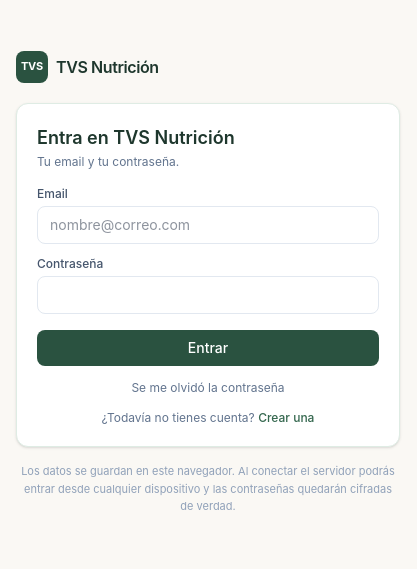
Test case: Pantalla de acceso › una contraseña corta se explica en vez de fallar en silencio
Click the button "Crear una".
click(286, 418)  # box [258,410,314,426]
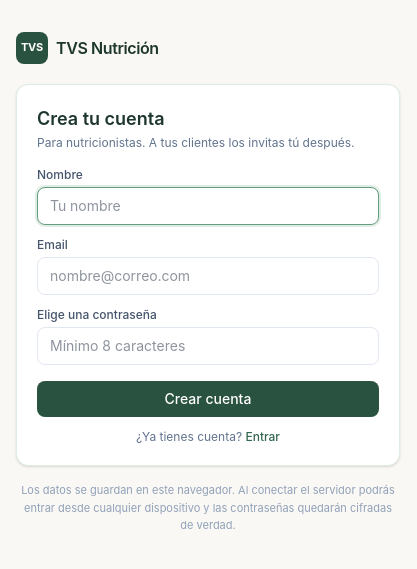
Type "Tats" into the field labelled "Nombre".
click(208, 206); type("Tats")  # box [37,187,379,225]
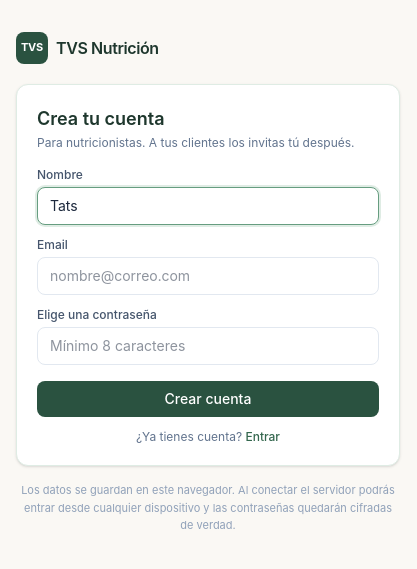
Type "tats@correo.com" into the field labelled "Email".
click(208, 276); type("tats@correo.com")  # box [37,257,379,295]
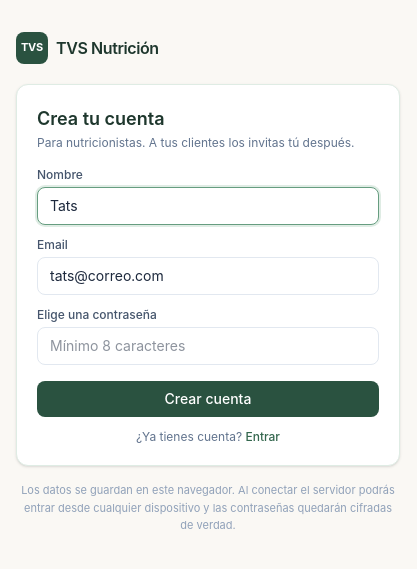
Type "123" into the password field labelled "Elige una contraseña".
click(208, 346); type("123")  # box [37,327,379,365]
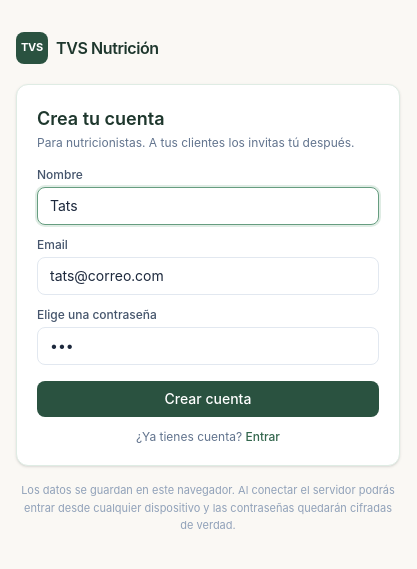
Click the button "Crear cuenta".
click(208, 399)  # box [37,381,379,417]
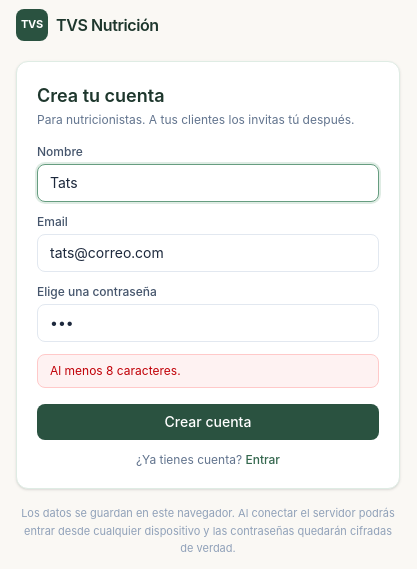
Expected: the text "Al menos 8 caracteres." is shown, [37,354,379,388]
